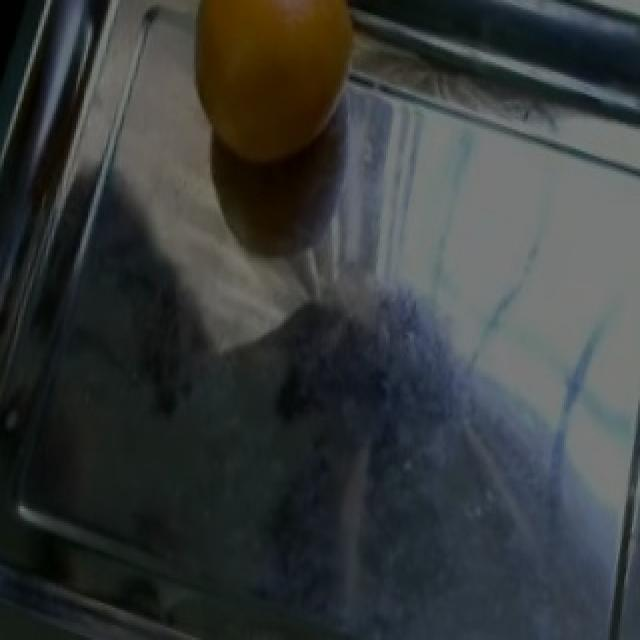Fruit: (168, 0, 378, 191)
